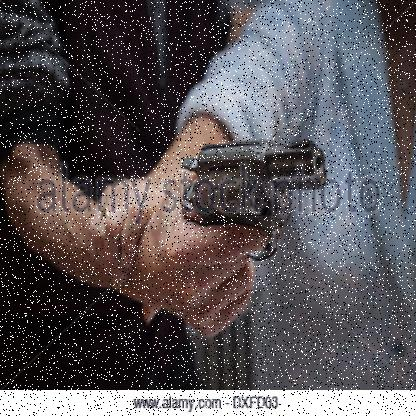pistol: (180, 131, 326, 265)
